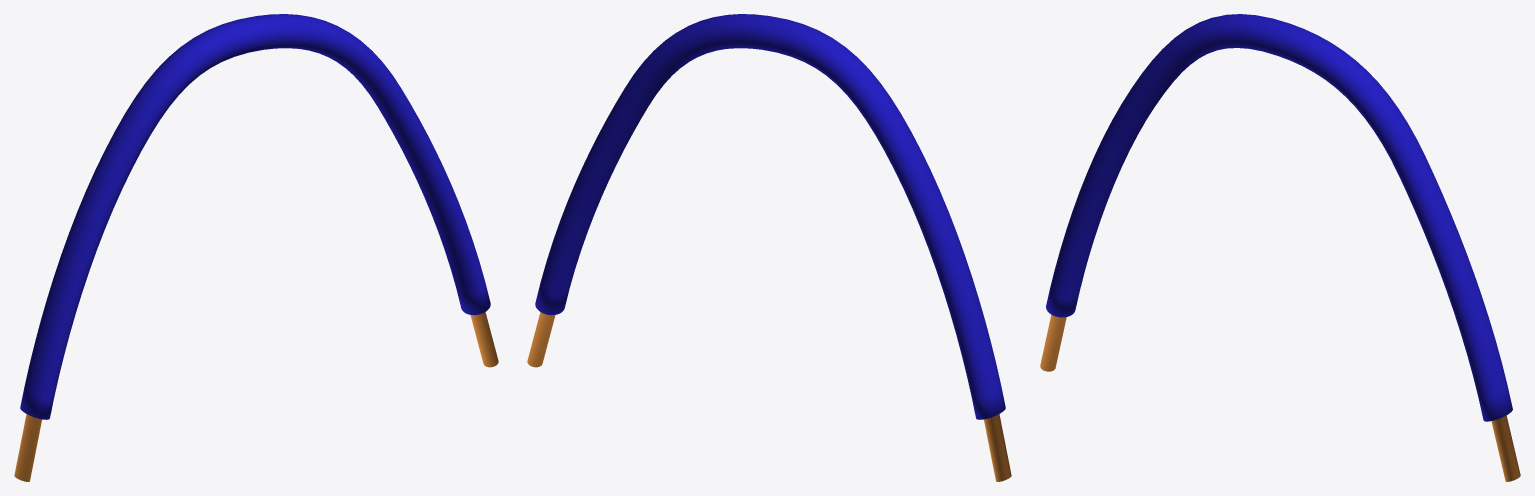
The model's file is Prefab_CableExtraAzul.fbx.
3 renders of one model, left to right at view 1: azimuth 30°, elevation 25°; view 2: azimuth 150°, elevation 25°; view 3: azimuth 330°, elevation 25°, orthographic.
Visible parts, largest first — view 1: Curva Bézier; view 2: Curva Bézier; view 3: Curva Bézier.
Part boxes in pixels (x1,y1,x2,y2): Curva Bézier: (14, 14, 498, 481); Curva Bézier: (527, 14, 1011, 481); Curva Bézier: (1040, 14, 1520, 481).
Size of the model in its own units: 149 by 120 by 10.
